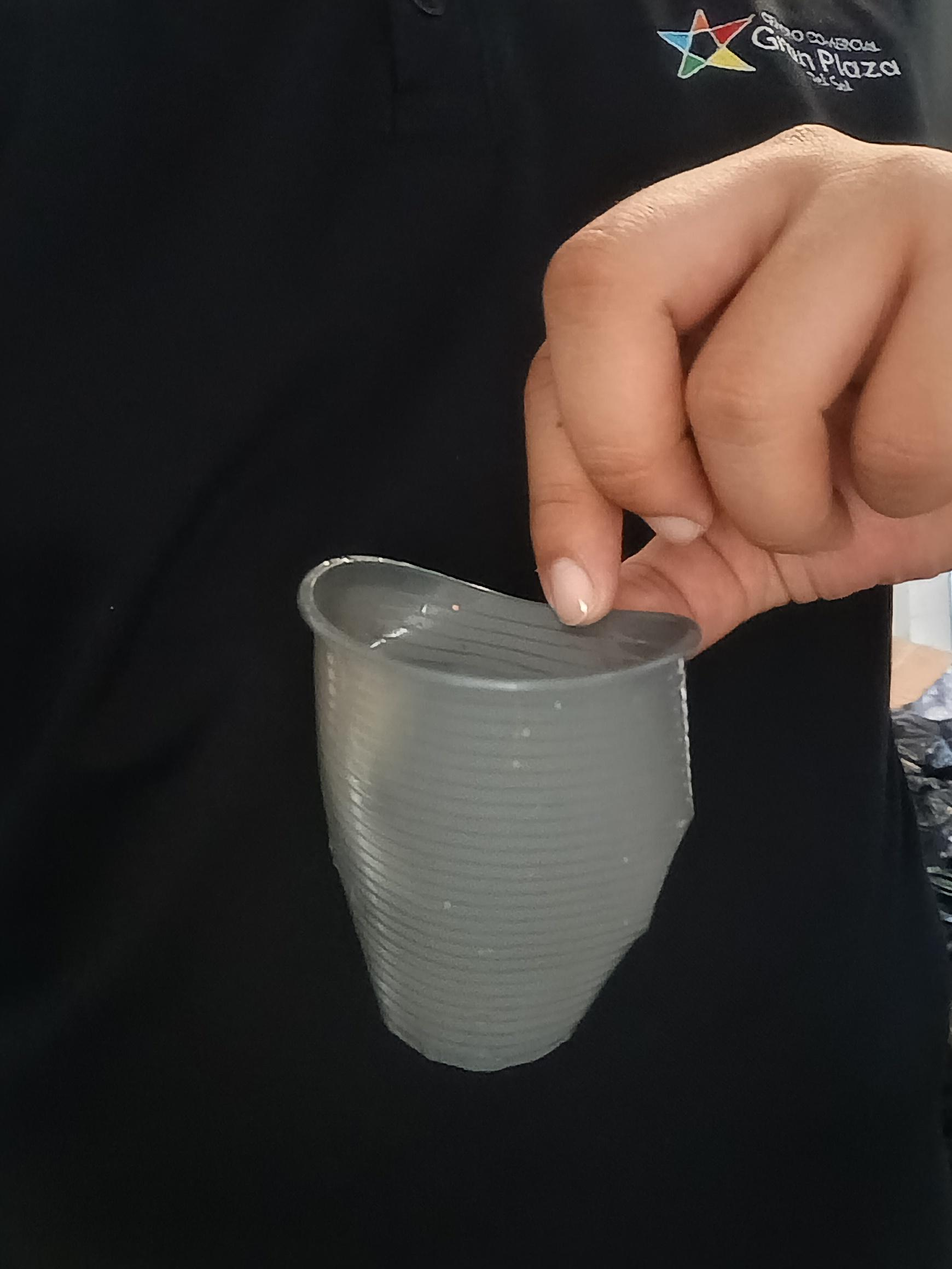Plastico: (301, 556, 698, 1071)
